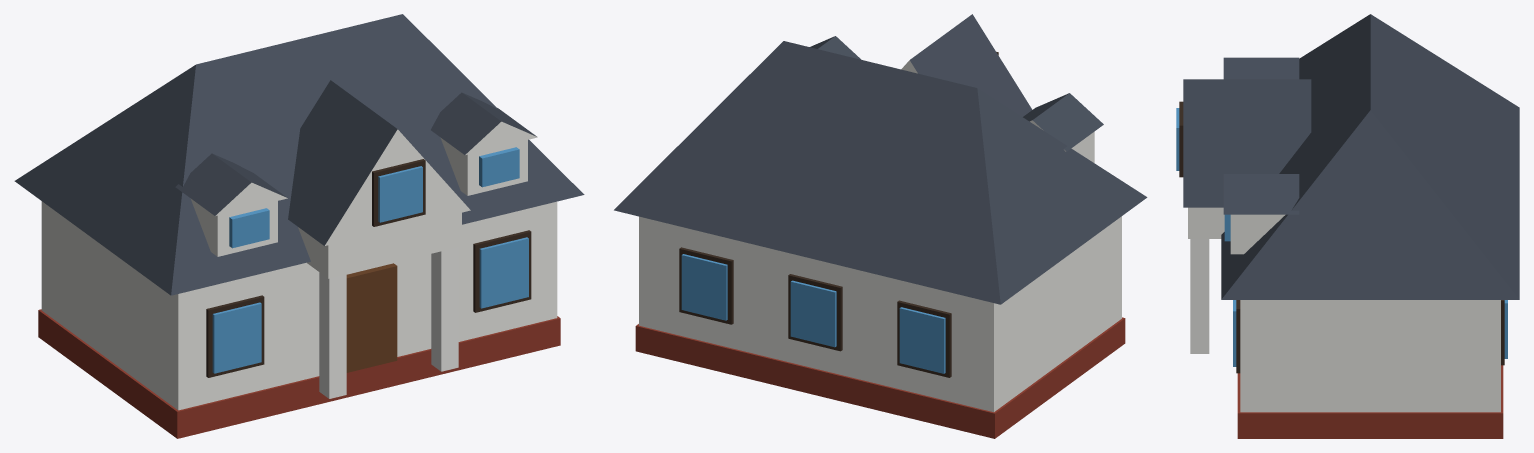
Rendered from 58_polish_dworek_2.obj.
3 views of the same model, side by side, from view 1: azimuth 30°, elevation 25°; view 2: azimuth 150°, elevation 25°; view 3: azimuth 270°, elevation 25° (orthographic). The views are drawn at different scales.
Parts seen in each view (by area): view 1: 58_polish_dworek_2; view 2: 58_polish_dworek_2; view 3: 58_polish_dworek_2.
Part boxes in pixels (x1=…): 58_polish_dworek_2: x1=14, y1=14, x2=584, y2=438; 58_polish_dworek_2: x1=614, y1=14, x2=1147, y2=438; 58_polish_dworek_2: x1=1176, y1=14, x2=1519, y2=438.
Size of the model in its own units: 1.92 by 1.34 by 1.45.
